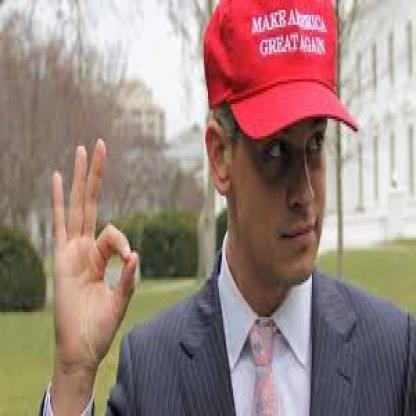ok: (50, 132, 138, 374)
